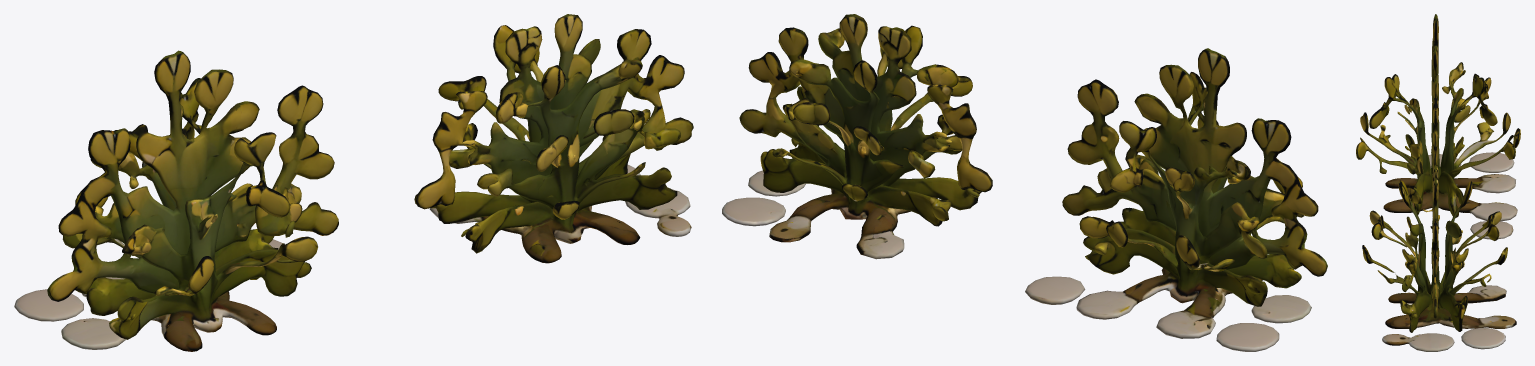
The model's file is arbusto.fbx.
3 renders of one model, left to right at view 1: azimuth 30°, elevation 25°; view 2: azimuth 150°, elevation 25°; view 3: azimuth 270°, elevation 25°, orthographic. The views are drawn at different scales.
Visible parts, largest first — view 1: tripo_node_e383c3b4; view 2: tripo_node_e383c3b4; view 3: tripo_node_e383c3b4.
Boxes of the visible parts, box(x1,y1,x2,y2) form: tripo_node_e383c3b4: box(14, 14, 693, 351); tripo_node_e383c3b4: box(722, 14, 1327, 351); tripo_node_e383c3b4: box(1356, 14, 1520, 351).
Bounding box in the file's own units: 99.85 × 40.42 × 33.69.
1 material, 1 textured.
